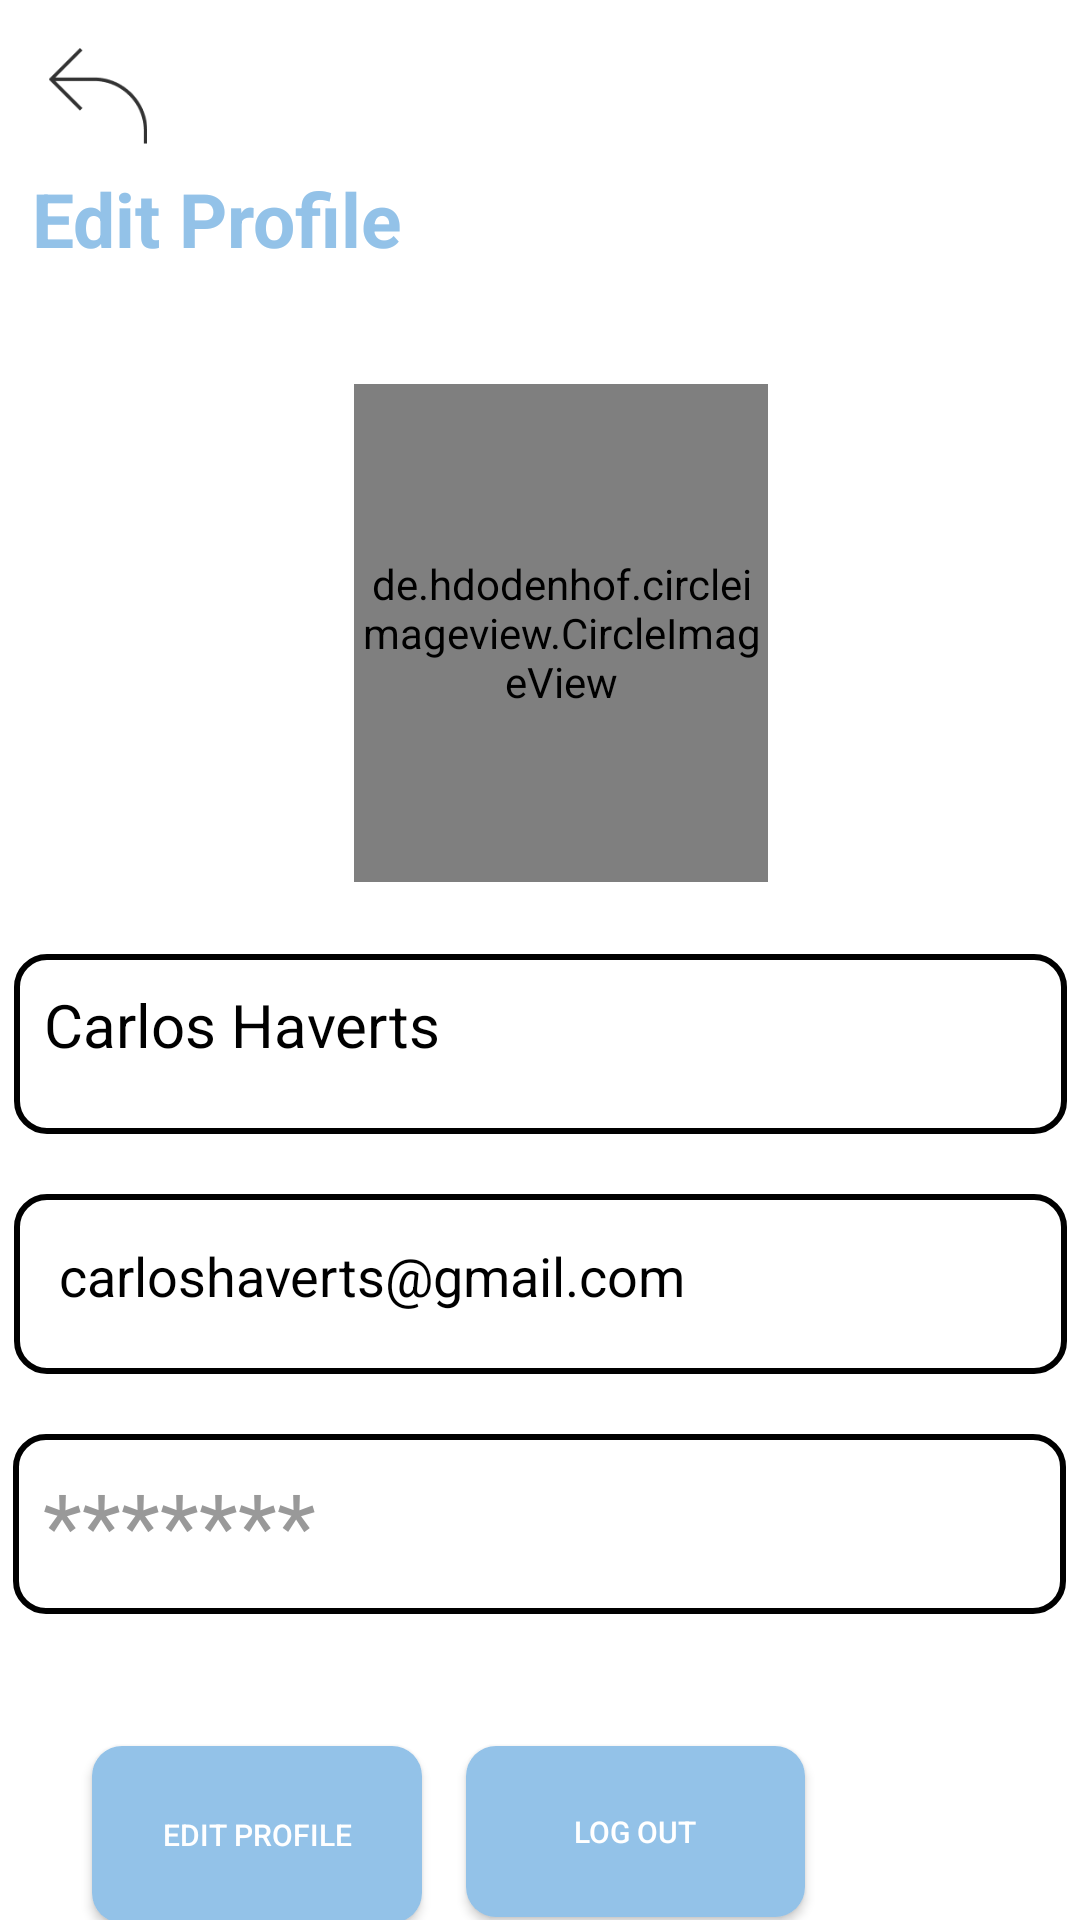

Screen size 1080 × 1920. Icon name, then its box in pixels as (x1, y1, x2, y2):
icback: (49, 48, 147, 144)
